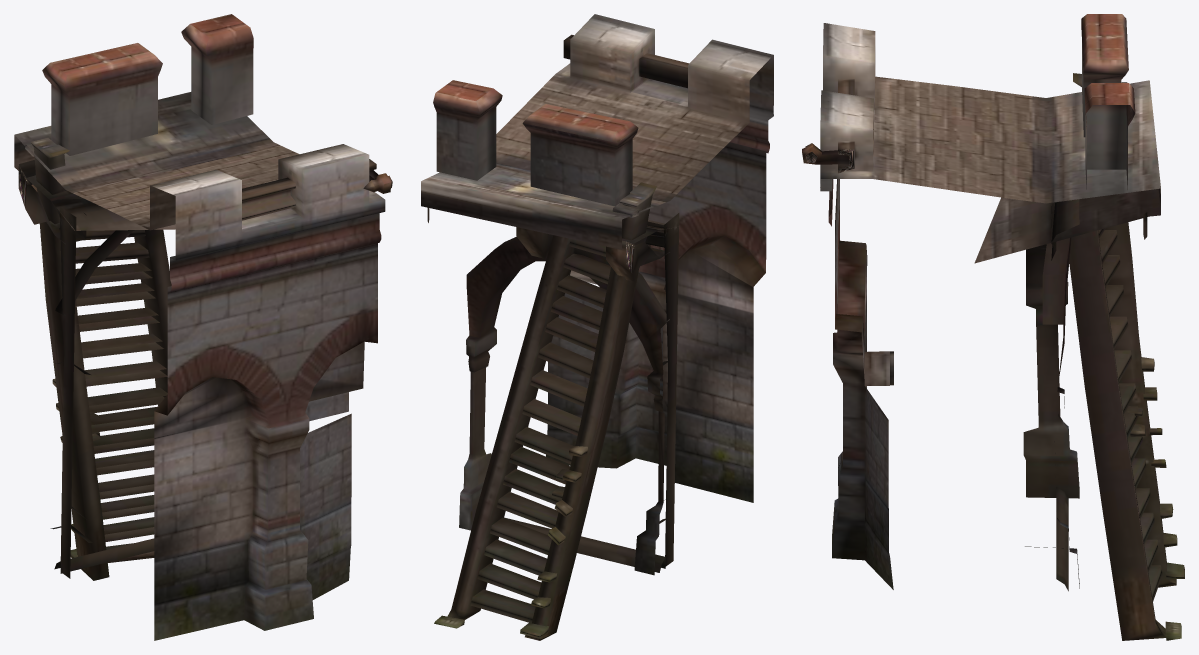
File: WallRunRight_06.fbx
The picture shows the model from 3 angles, left to right: view 1: azimuth 30°, elevation 25°; view 2: azimuth 150°, elevation 25°; view 3: azimuth 270°, elevation 25°; orthographic projection. The views are drawn at different scales.
Parts seen in each view (by area): view 1: WallRunRight_06; view 2: WallRunRight_06; view 3: WallRunRight_06.
Boxes of the visible parts, x1,y1,x2,y2 form: WallRunRight_06: [14, 14, 392, 640]; WallRunRight_06: [421, 14, 773, 640]; WallRunRight_06: [802, 14, 1184, 640].
Bounding box in the file's own units: 255 × 639 × 403.
Materials: 1 (1 with a texture image).
